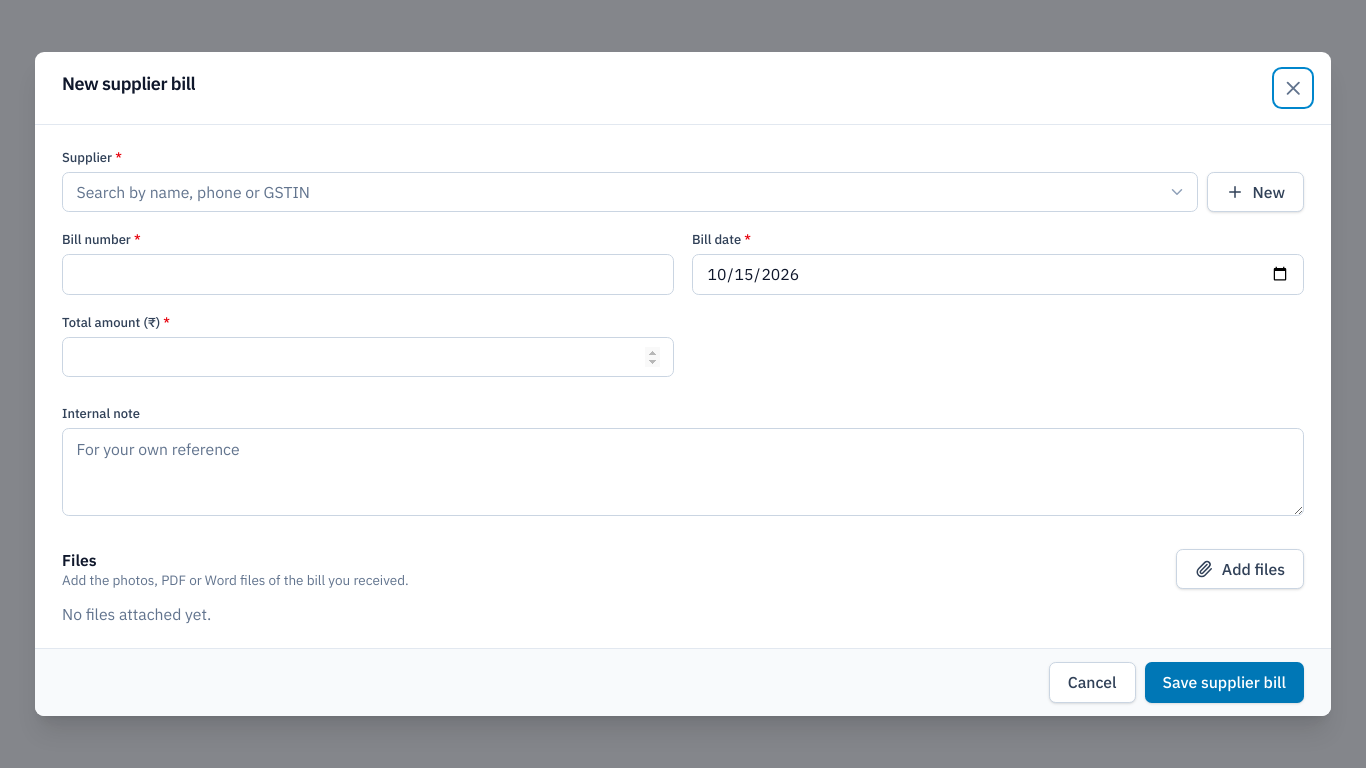
Scenario: a new supplier bill › refuses to save › with a total of
This screenshot has width=1366, height=768.
Click the dropdown named "Supplier" at point(630, 192), box 62,172 -> 1198,212
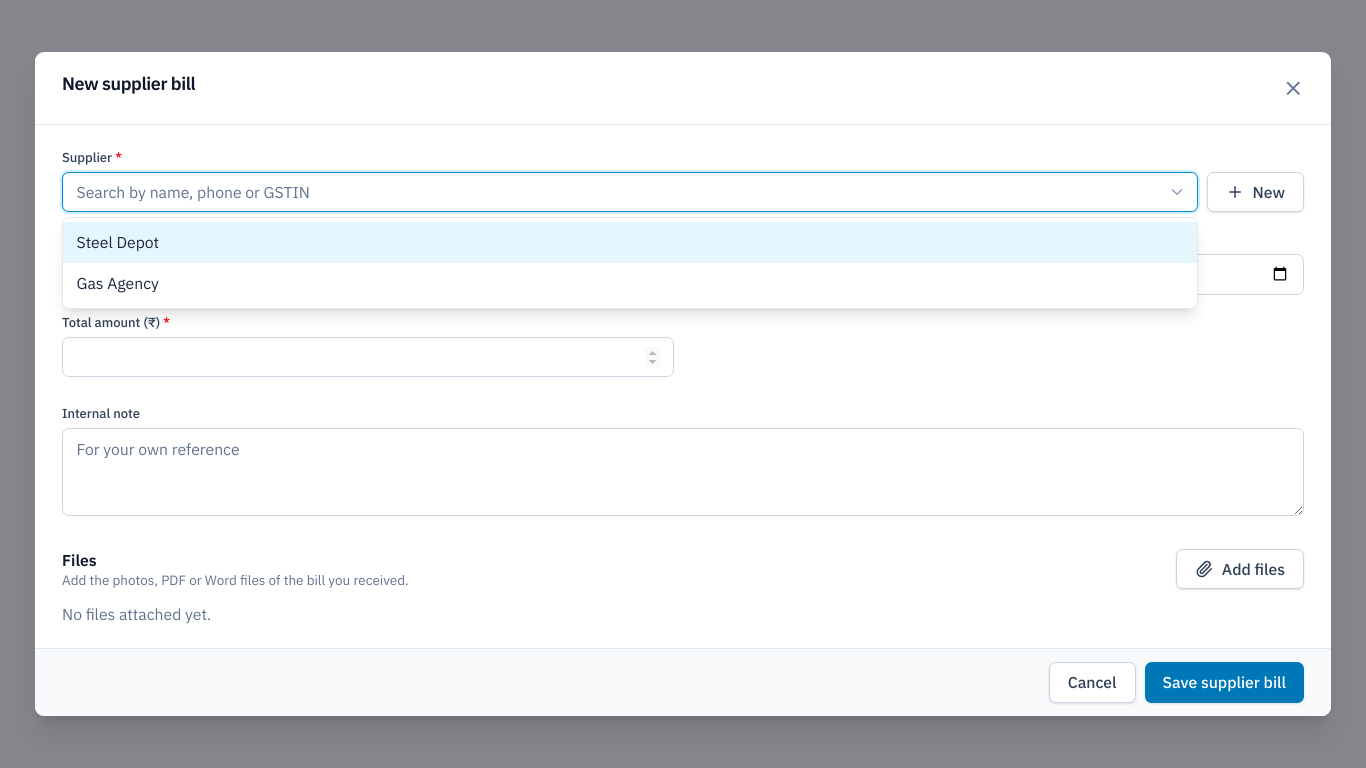
Click the option "Steel Depot" at point(118, 242), box 63,222 -> 1196,262
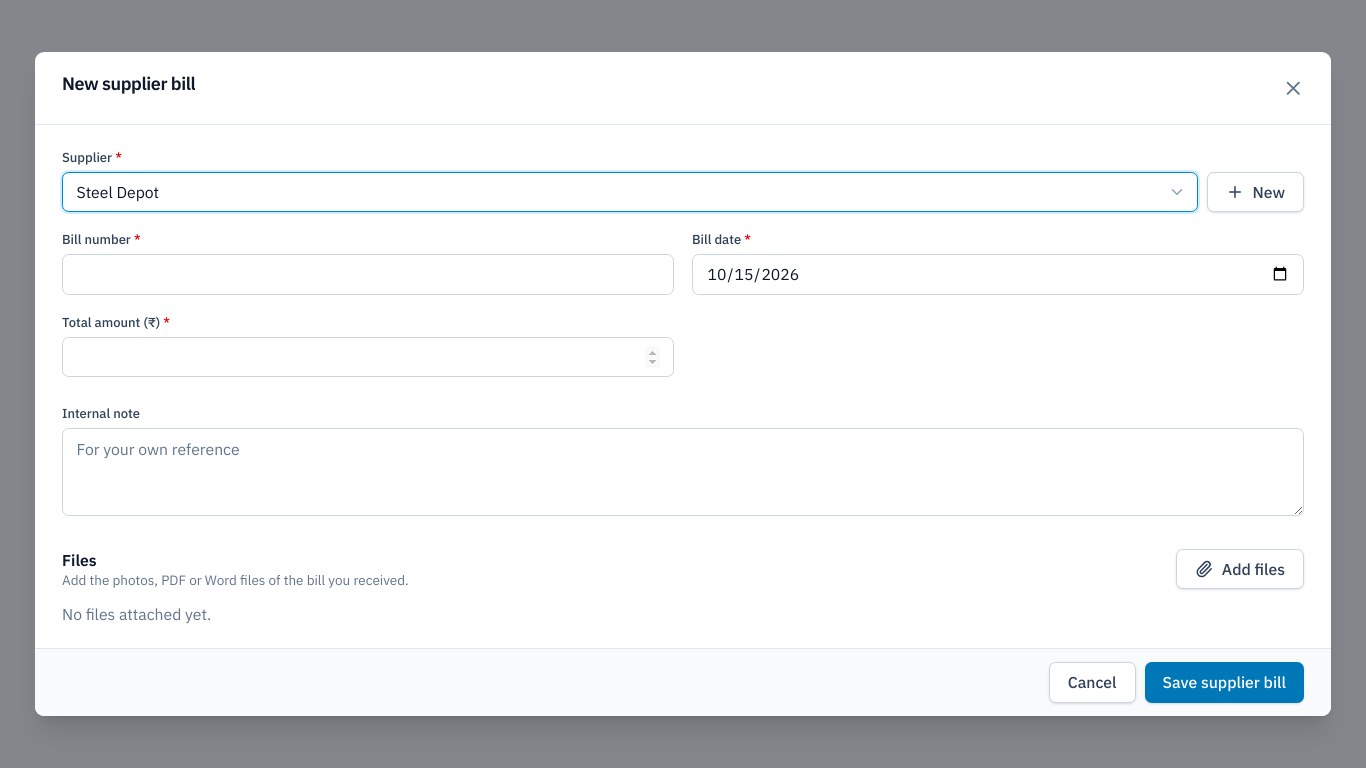
Type "SD-1" into the field labelled "Bill number" at point(368, 274), box 62,254 -> 674,294
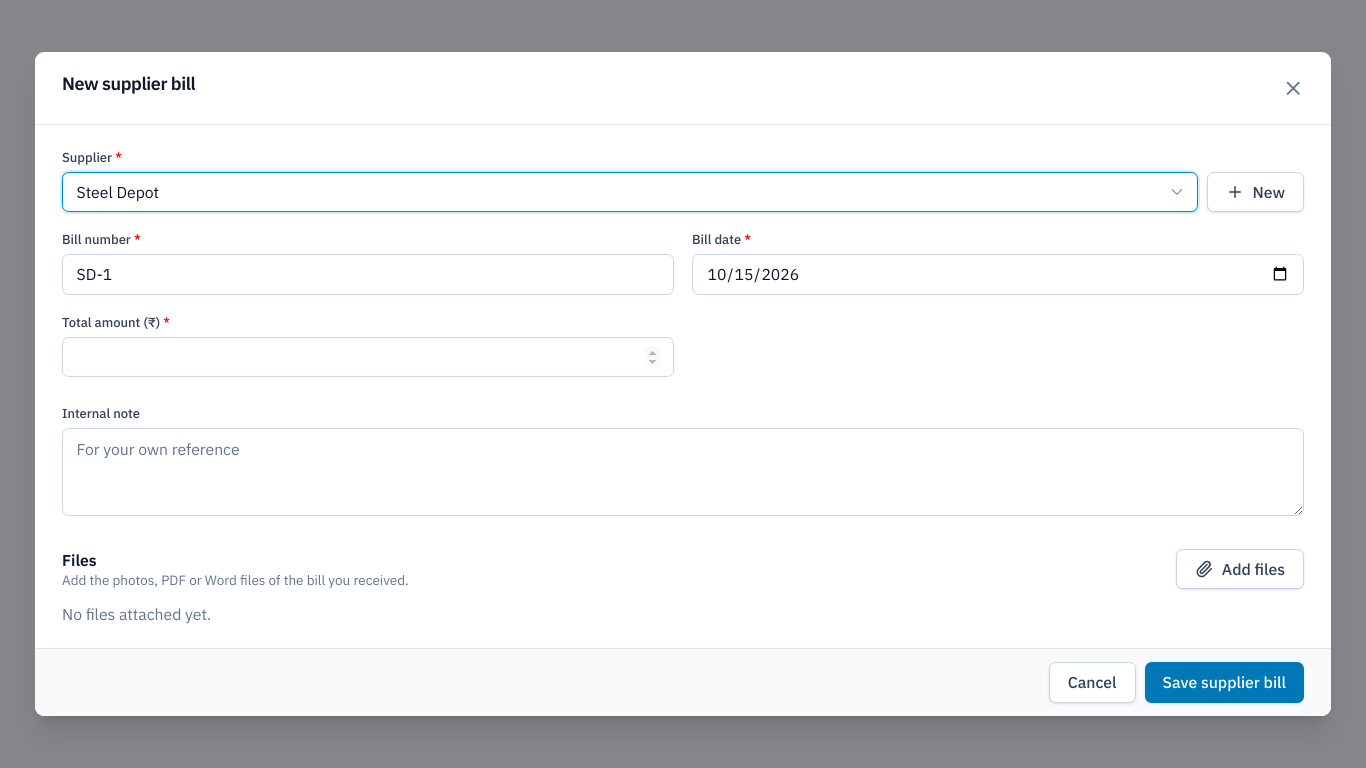
Click the button "Save supplier bill" at point(1224, 682), box 1145,662 -> 1304,702
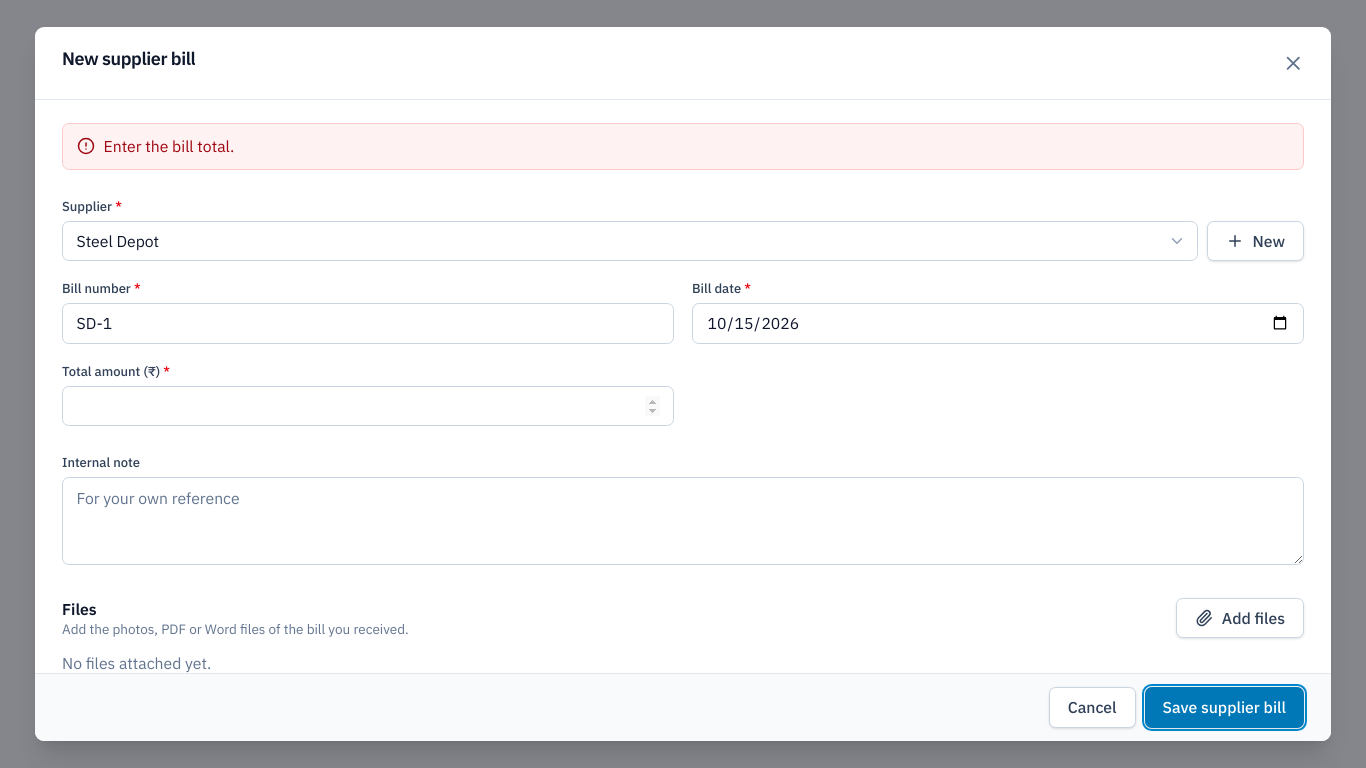
Now the message reads "Enter the bill total.", box 104,136 -> 234,156
